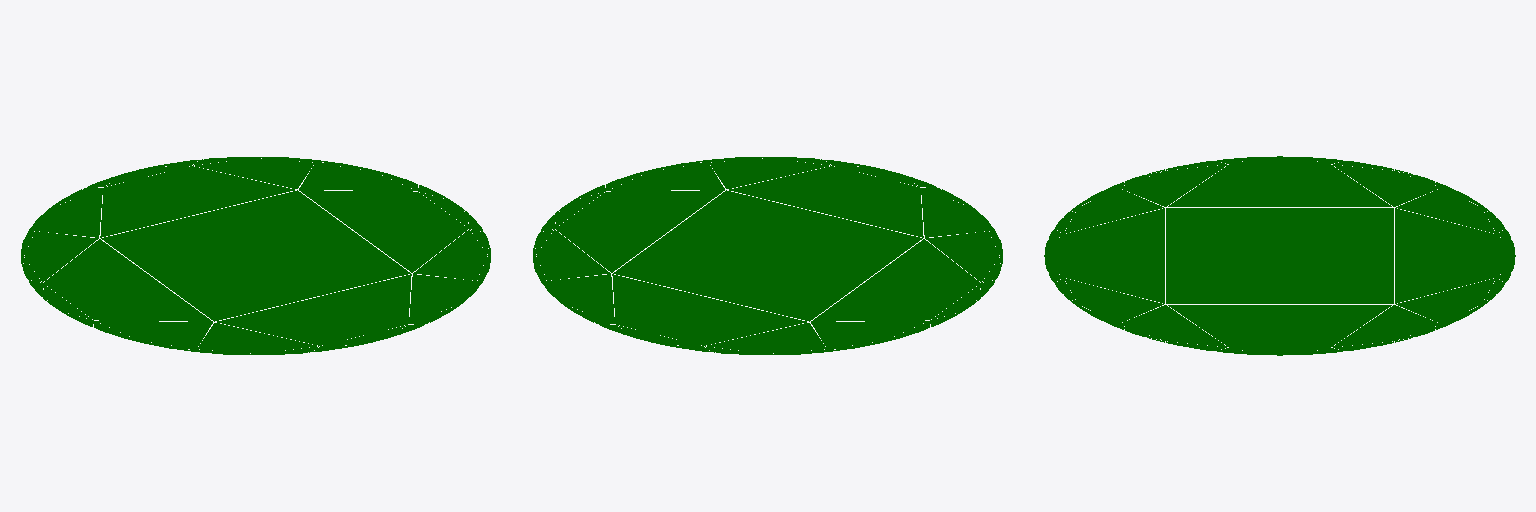
Rendered from teselation.obj.
The picture shows the model from 3 angles: view 1: azimuth 30°, elevation 25°; view 2: azimuth 150°, elevation 25°; view 3: azimuth 270°, elevation 25°; orthographic projection.
Visible parts, largest first — view 1: teselation; view 2: teselation; view 3: teselation.
Part boxes in pixels (left/top/right/bottom): teselation: left=21, top=157, right=490, bottom=354; teselation: left=533, top=157, right=1002, bottom=354; teselation: left=1044, top=156, right=1515, bottom=355.
Size of the model in its own units: 2 by 0 by 2.